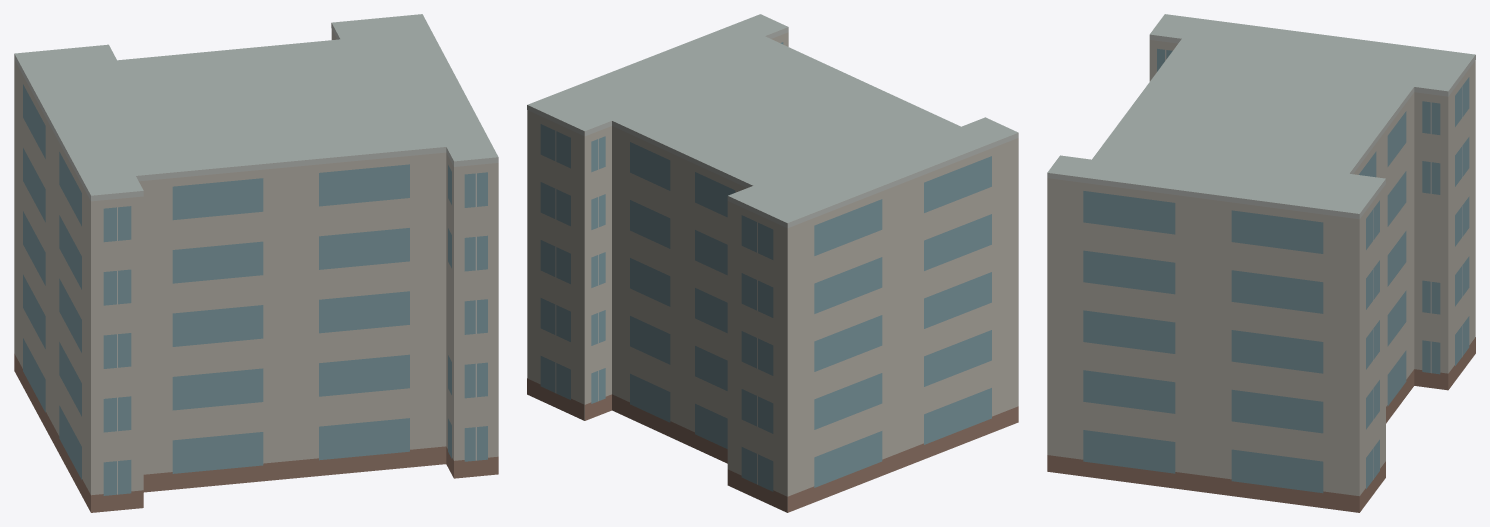
Rendered from survey-upis-33005831.glb.
3 views of the same model, side by side, from view 1: azimuth 30°, elevation 25°; view 2: azimuth 150°, elevation 25°; view 3: azimuth 270°, elevation 25° (orthographic). The views are drawn at different scales.
Visible parts, largest first — view 1: survey-upis-33005831.tmp; view 2: survey-upis-33005831.tmp; view 3: survey-upis-33005831.tmp.
Boxes of the visible parts, <box> form: survey-upis-33005831.tmp: <box>14,14,498,512</box>; survey-upis-33005831.tmp: <box>527,14,1018,512</box>; survey-upis-33005831.tmp: <box>1047,14,1475,512</box>.
Size of the model in its own units: 19.67 by 13.7 by 17.81.
